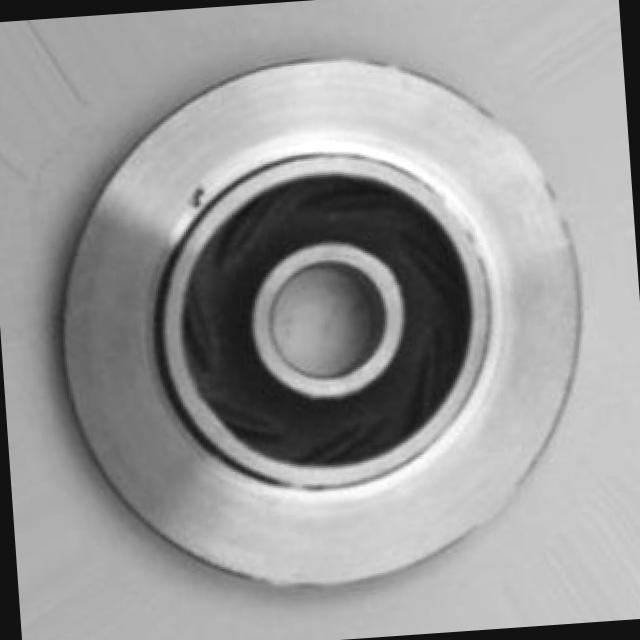Defect: (188, 185, 210, 208)
